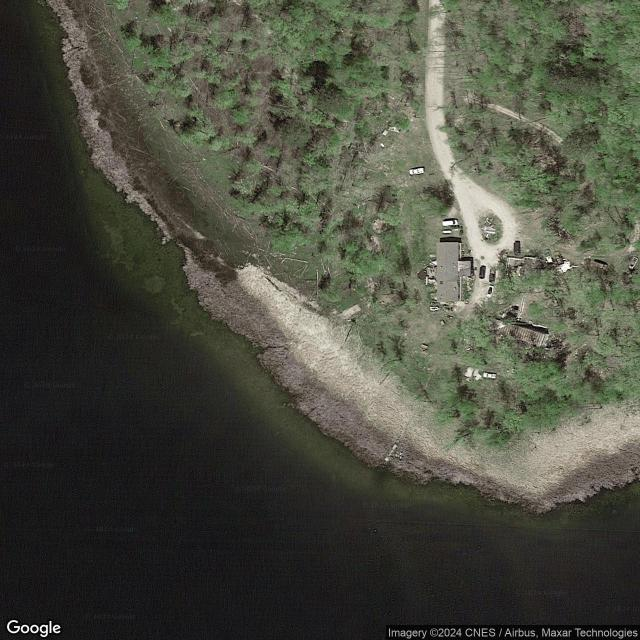Propane: (442, 229, 453, 234)
